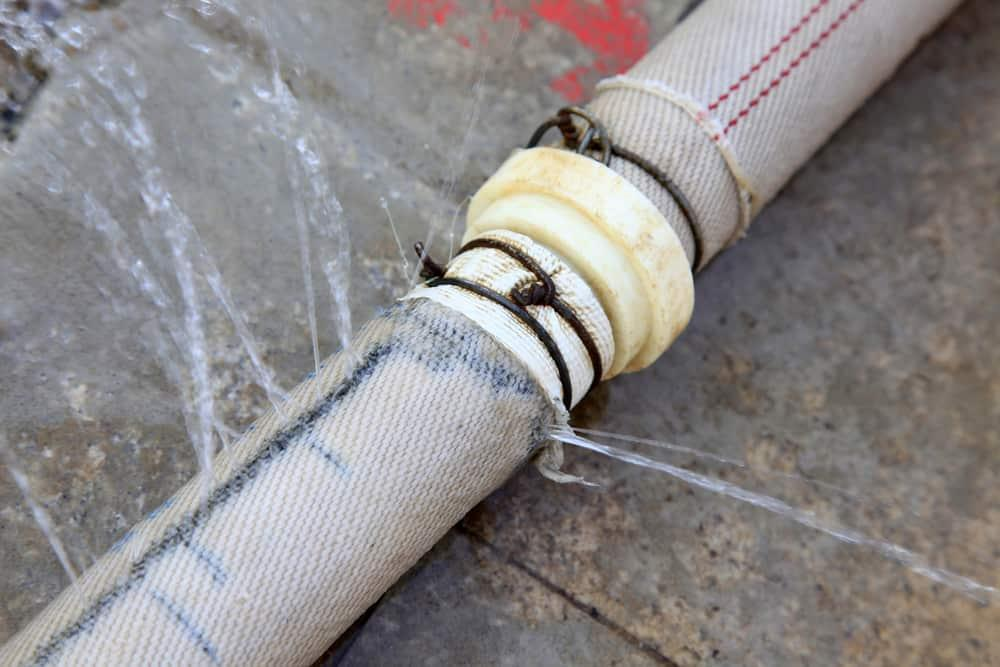pipe burst: (0, 0, 384, 622), (527, 416, 1000, 603), (401, 39, 494, 292)
